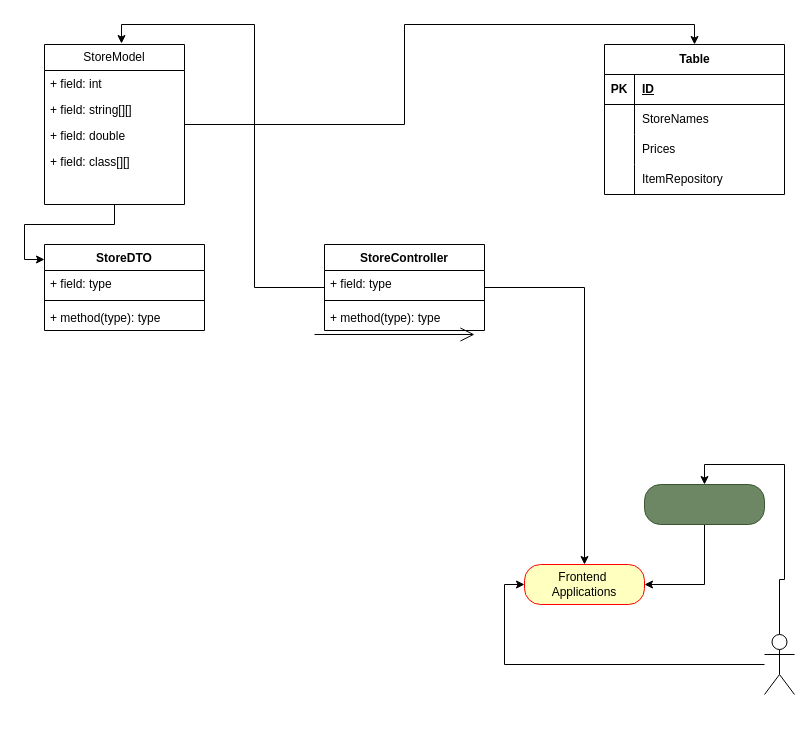
Some shapes in this 812 by 733 pixel diagram are drawn without their labels. The centre of each missing label's shape, as x and y in pixels:
Actor: (779,664)
RestAPI: (704,504)
